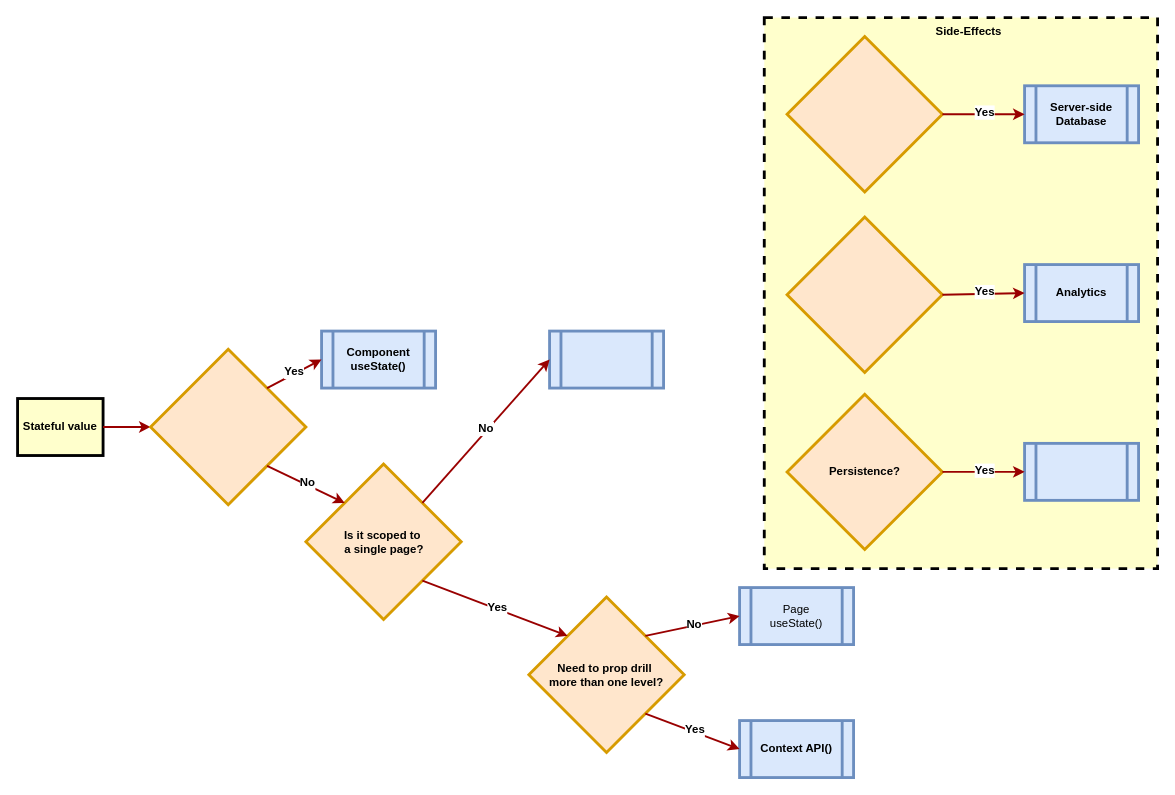
Some shapes in this 1175 by 795 pixel diagram are drawn without their labels. The shapes that lost their labels are listed below. From the top down, each one's box as (x1, y1, x2, y2) in pixels, then its label:
(785, 35, 943, 193): Transactional?
(785, 215, 943, 373): Measurable?
(548, 329, 665, 389): Zustand/Redux
(149, 347, 307, 506): Scoped to single component?
(1023, 441, 1140, 501): Client-side sessionStorage
